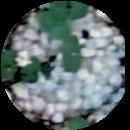Basil: (43, 16, 69, 44), (0, 48, 17, 84), (67, 39, 81, 69), (51, 3, 84, 15), (24, 60, 43, 79)
